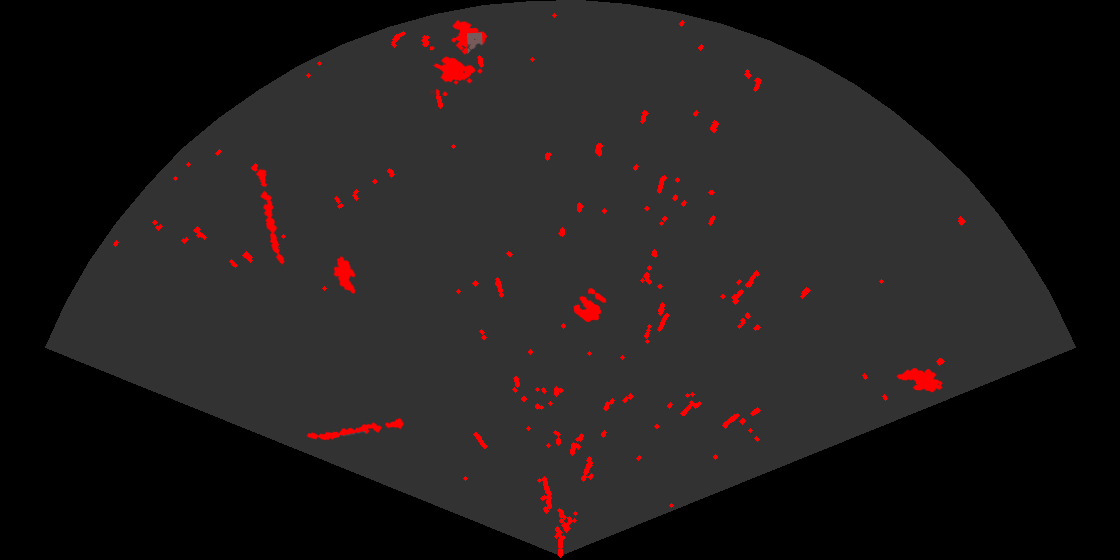AUV: (895, 366, 944, 394), (332, 255, 357, 295)
ball: (572, 286, 608, 324)
cage: (430, 18, 489, 96)
chain: (254, 167, 286, 266), (305, 417, 406, 442)
